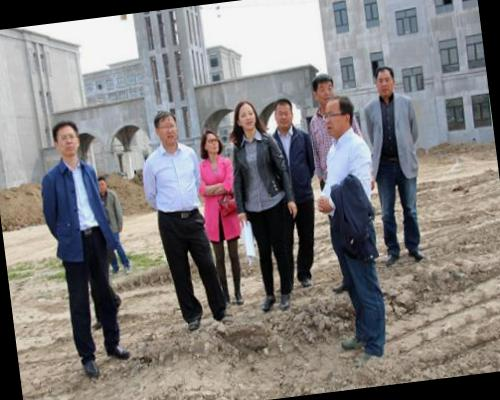no_helmet: (48, 115, 84, 163), (324, 91, 357, 140), (150, 104, 182, 150), (306, 67, 338, 113), (232, 96, 262, 138), (267, 94, 300, 132), (370, 61, 398, 102), (197, 124, 226, 163), (92, 172, 111, 200)
